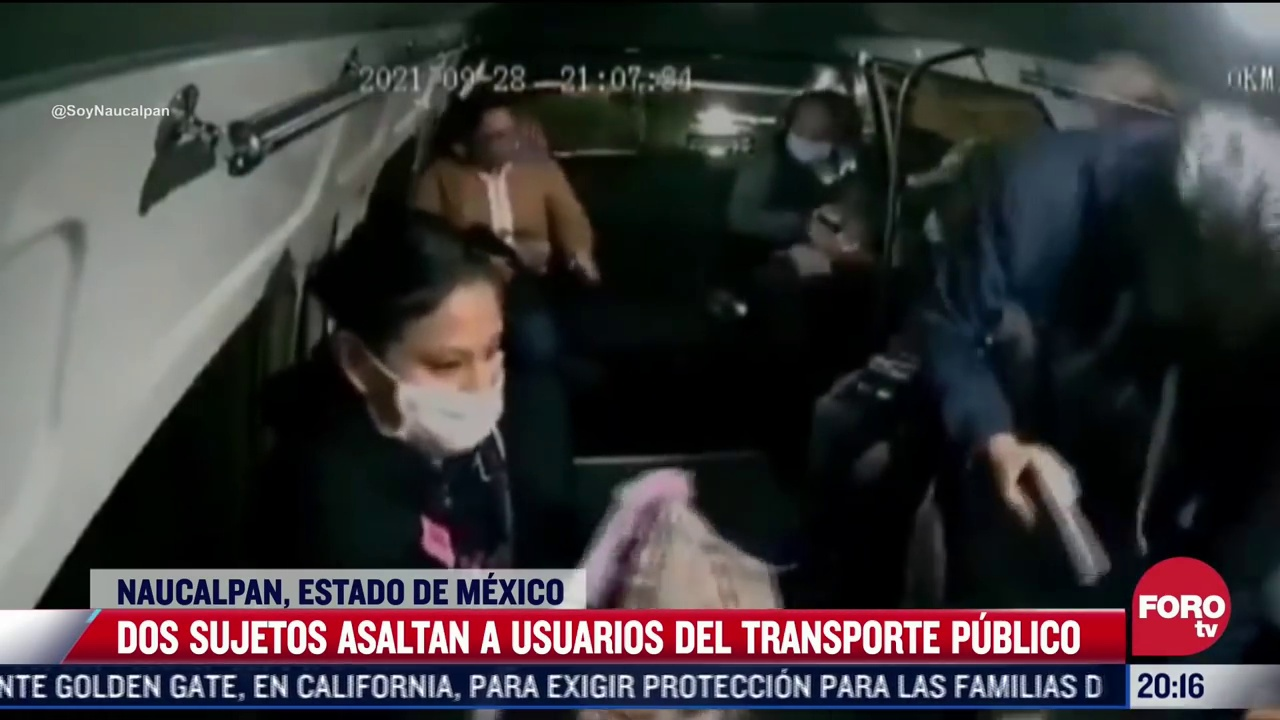pistol: (1015, 447, 1114, 587)
